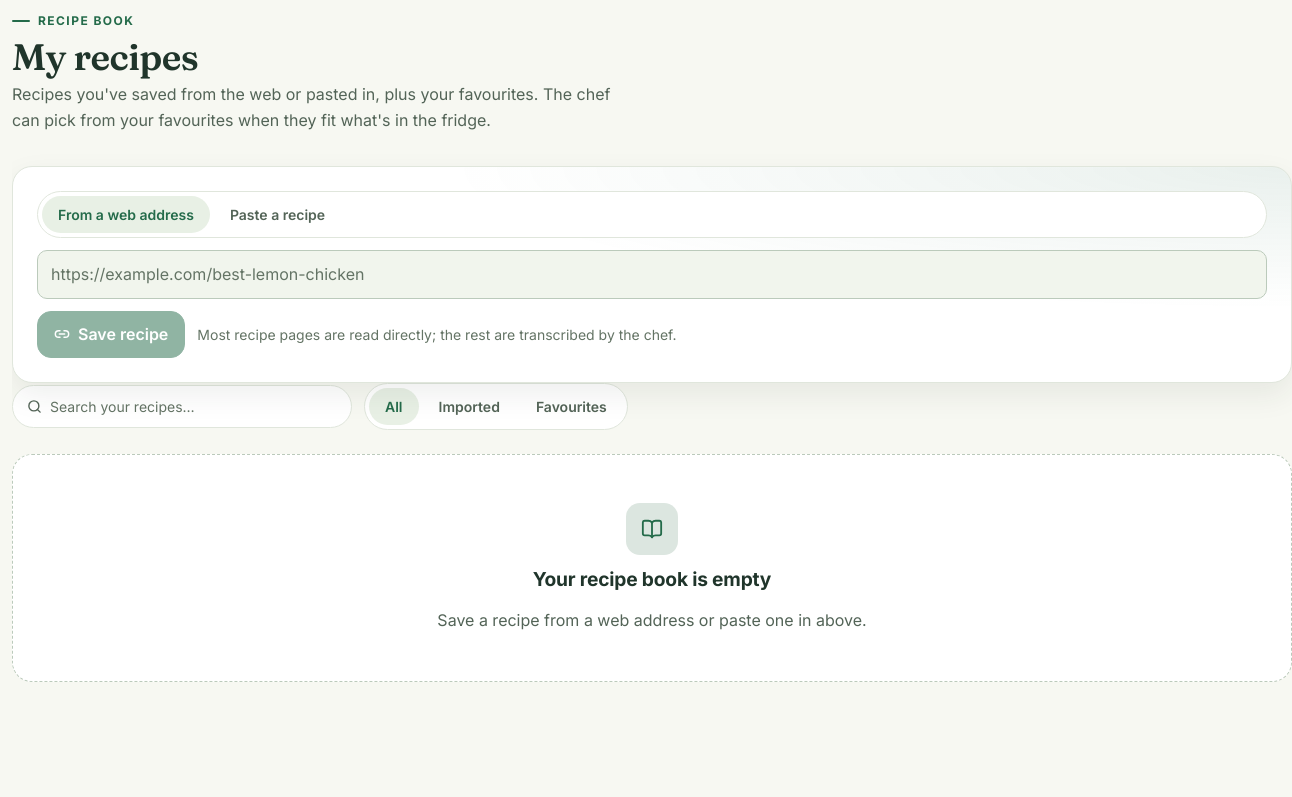
it: imports a recipe from a web address into the book
The width and height of the screenshot is (1292, 797).
Check: the heading "Your recipe book is empty" is shown, box [533,568,771,592]
Check: the button "Save recipe" is disabled, box [37,311,185,358]
Type "https://example.com/lemon" into the field named "Recipe web address".
click(652, 275); type("https://example.com/lemon")  # box [37,250,1267,299]
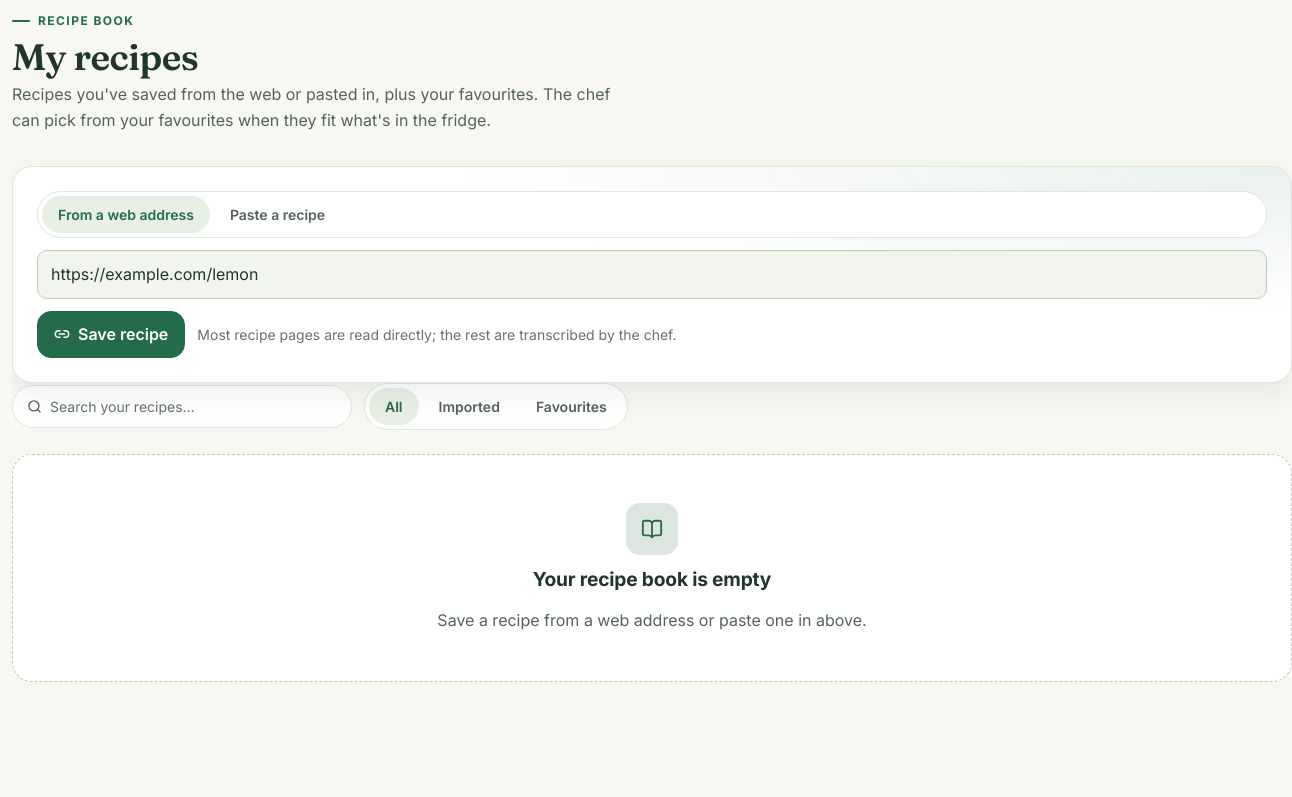
Click the button "Save recipe".
click(111, 334)  # box [37,311,185,358]
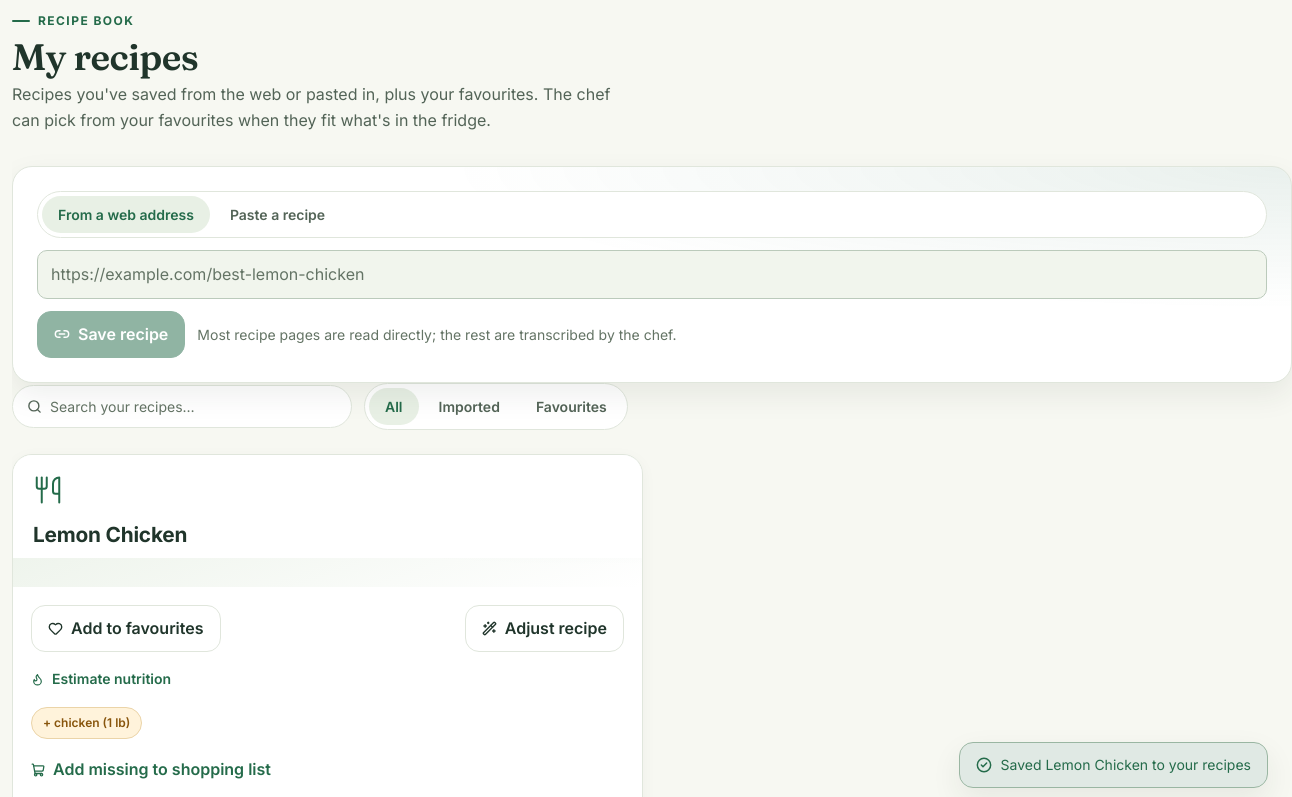
Check: the heading "Lemon Chicken" is shown, box [33,522,187,547]
Check: the field named "Recipe web address" is empty, box [37,250,1267,299]
